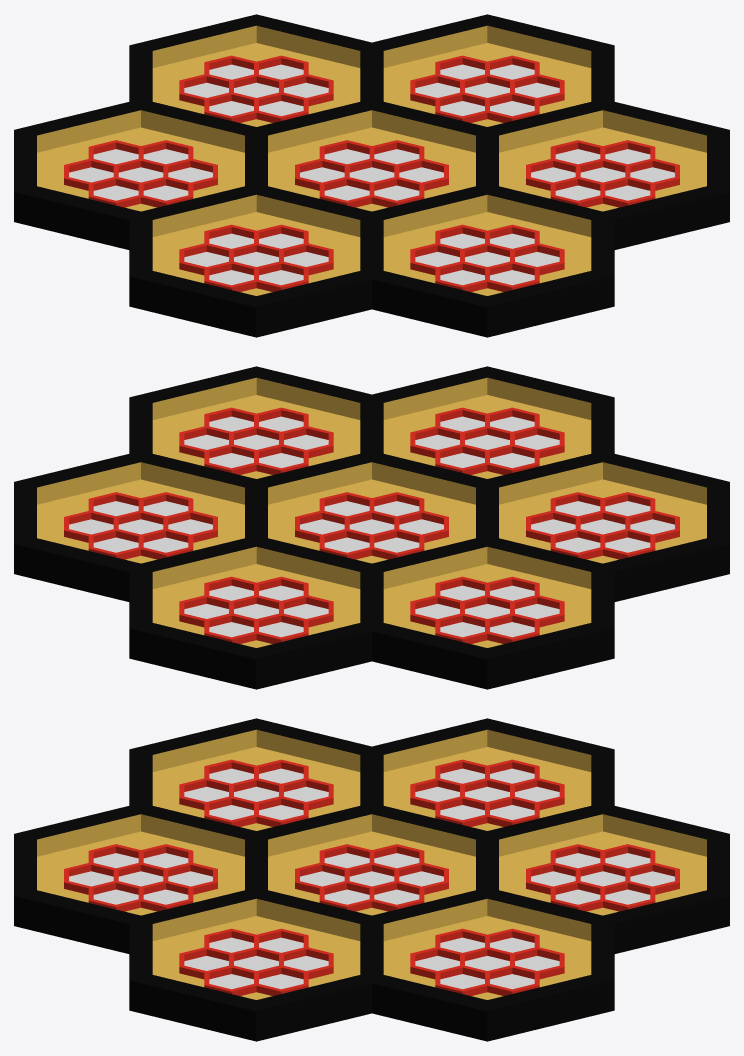
The model's file is WorldGrid.fbx.
The picture shows the model from 3 angles, top to bottom: view 1: azimuth 30°, elevation 25°; view 2: azimuth 150°, elevation 25°; view 3: azimuth 270°, elevation 25°; orthographic projection.
Visible parts, largest first — view 1: World_Grid.002; view 2: World_Grid.002; view 3: World_Grid.002.
Boxes of the visible parts, <box> form: World_Grid.002: <box>14,14,729,337</box>; World_Grid.002: <box>14,366,729,689</box>; World_Grid.002: <box>14,718,729,1041</box>.
Size of the model in its own units: 743 by 35.71 by 767.
